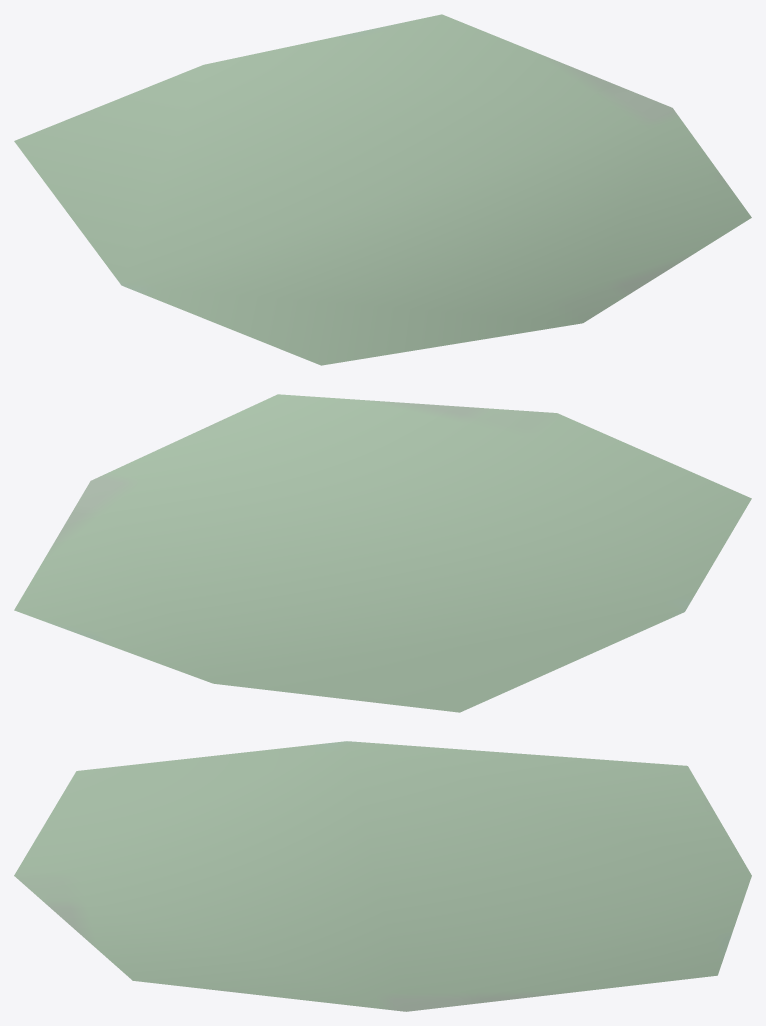
Rendered from TROLLHOLE02_HOLECAP54.fbx.
3 renders of one model, top to bottom at view 1: azimuth 30°, elevation 25°; view 2: azimuth 150°, elevation 25°; view 3: azimuth 270°, elevation 25°, orthographic. The views are drawn at different scales.
Visible parts, largest first — view 1: TROLLHOLE02_HOLECAP54; view 2: TROLLHOLE02_HOLECAP54; view 3: TROLLHOLE02_HOLECAP54.
Part boxes in pixels (x1,y1,x2,y2): TROLLHOLE02_HOLECAP54: [14, 14, 751, 365]; TROLLHOLE02_HOLECAP54: [14, 394, 751, 712]; TROLLHOLE02_HOLECAP54: [14, 741, 751, 1011].
Bounding box in the file's own units: 23104 × 676 × 25251.
1 material, 1 textured.
